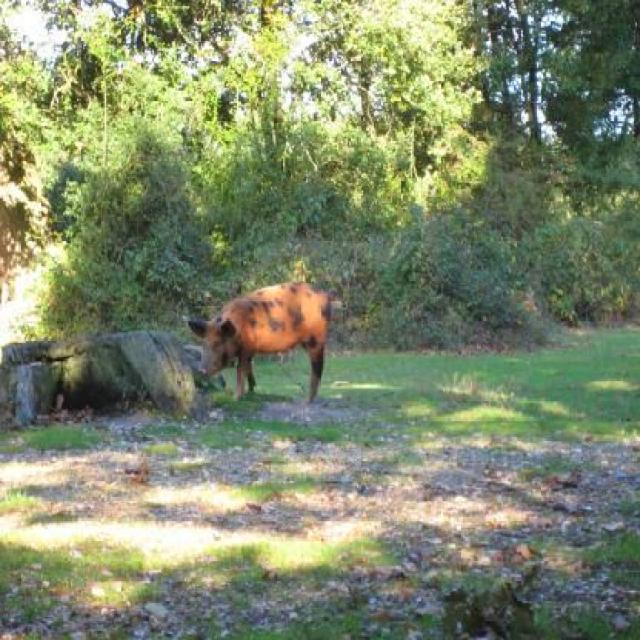Boar: (187, 278, 338, 408)
